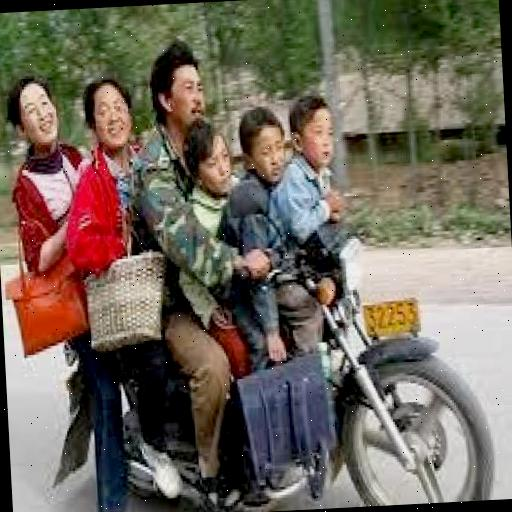no helmet: (122, 32, 238, 165)
triple riding: (0, 36, 506, 512)
